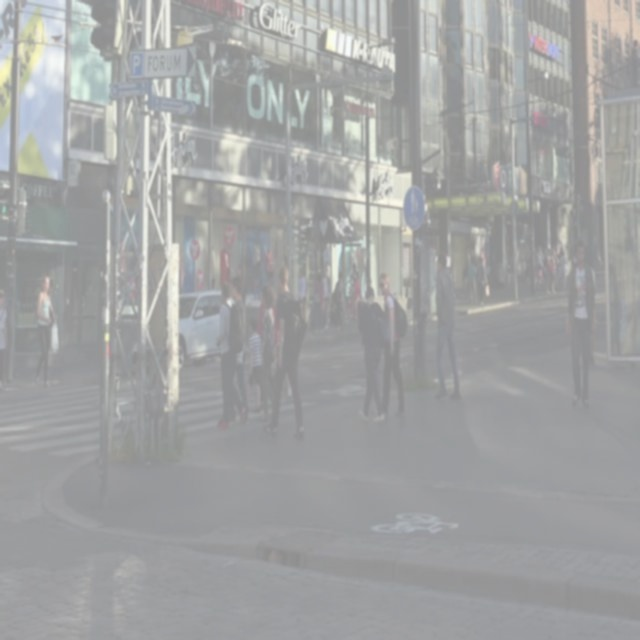pessoa: (260, 262, 308, 442), (563, 236, 598, 411), (214, 280, 248, 433), (431, 248, 463, 401), (376, 270, 408, 420), (357, 282, 388, 424), (228, 276, 250, 423), (32, 273, 56, 391), (258, 282, 276, 424), (608, 254, 628, 370), (528, 244, 568, 295), (245, 232, 278, 292), (246, 316, 264, 414), (210, 233, 242, 287), (345, 244, 366, 324), (0, 283, 12, 394), (174, 236, 188, 299), (272, 290, 282, 374), (330, 270, 343, 334), (296, 265, 308, 328), (312, 274, 324, 334), (320, 264, 330, 332), (475, 254, 487, 306), (282, 376, 296, 416), (467, 257, 478, 307), (461, 242, 471, 294), (256, 304, 266, 334)
